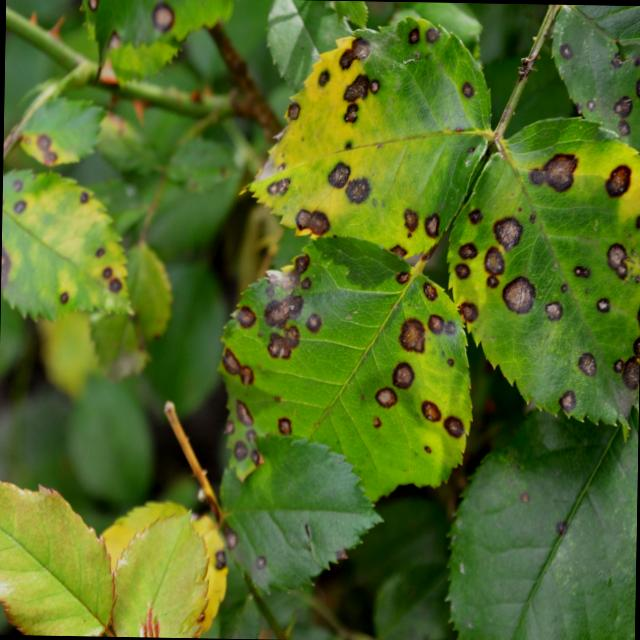leaf_spot: (223, 237, 471, 499), (449, 118, 640, 423), (249, 17, 489, 254)
